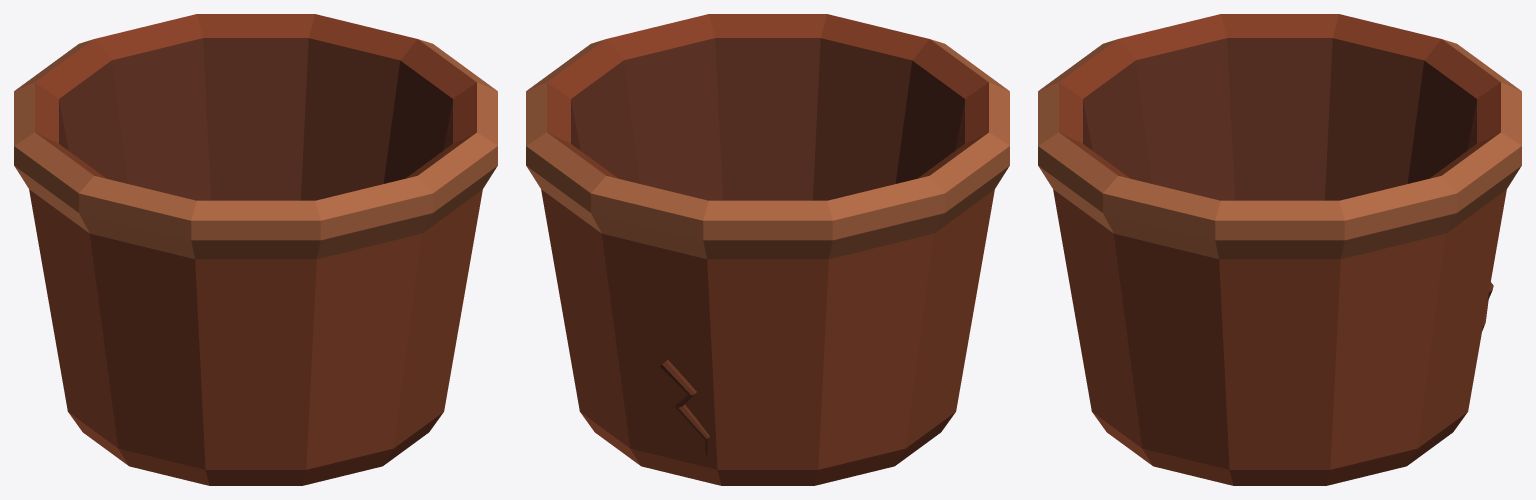
Rendered from duenenmeer_08.glb.
3 views of the same model, side by side, from view 1: azimuth 30°, elevation 25°; view 2: azimuth 150°, elevation 25°; view 3: azimuth 270°, elevation 25° (orthographic).
Parts seen in each view (by area): view 1: duenenmeer_08; view 2: duenenmeer_08; view 3: duenenmeer_08.
Boxes of the visible parts, <box> form: duenenmeer_08: <box>14,14,497,485</box>; duenenmeer_08: <box>526,14,1009,485</box>; duenenmeer_08: <box>1038,14,1521,485</box>.
Bounding box in the file's own units: 2 × 1.39 × 2.
